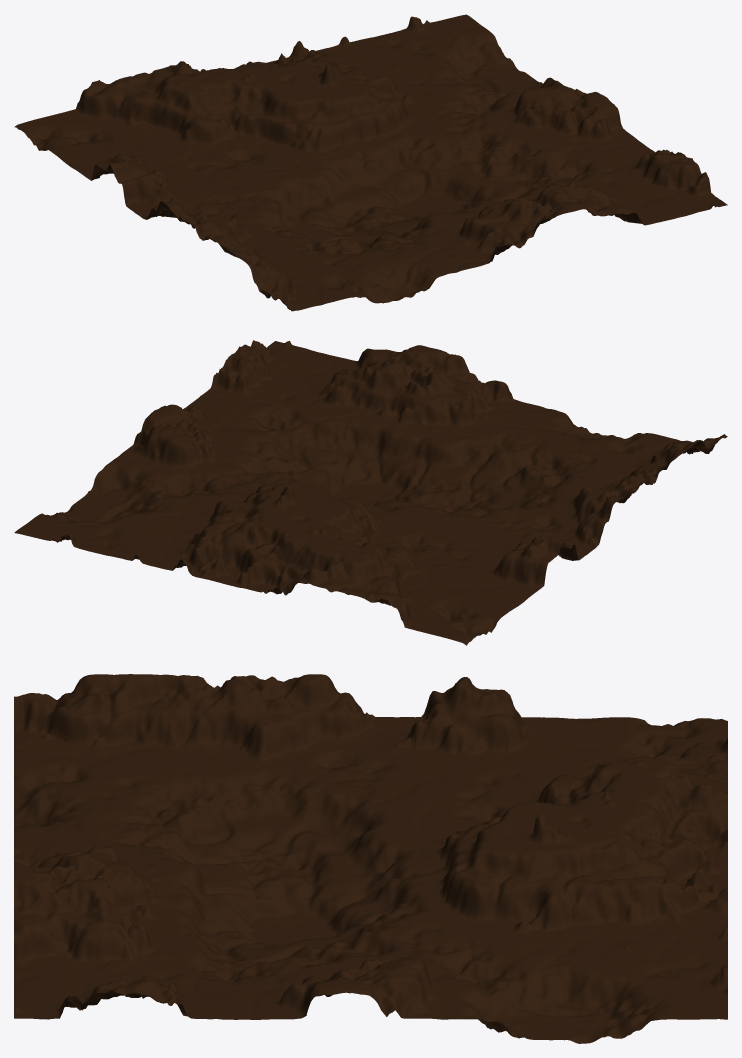
The model's file is 2x2.3_cubes_500m_006.glb.
The picture shows the model from 3 angles, top to bottom: view 1: azimuth 30°, elevation 25°; view 2: azimuth 150°, elevation 25°; view 3: azimuth 270°, elevation 25°; orthographic projection. The views are drawn at different scales.
Parts seen in each view (by area): view 1: Cube; view 2: Cube; view 3: Cube.
Part boxes in pixels (x1,y1,x2,y2): Cube: (14,14,727,311); Cube: (14,340,727,645); Cube: (14,674,727,1043).
Size of the model in its own units: 500 by 85.51 by 500.
